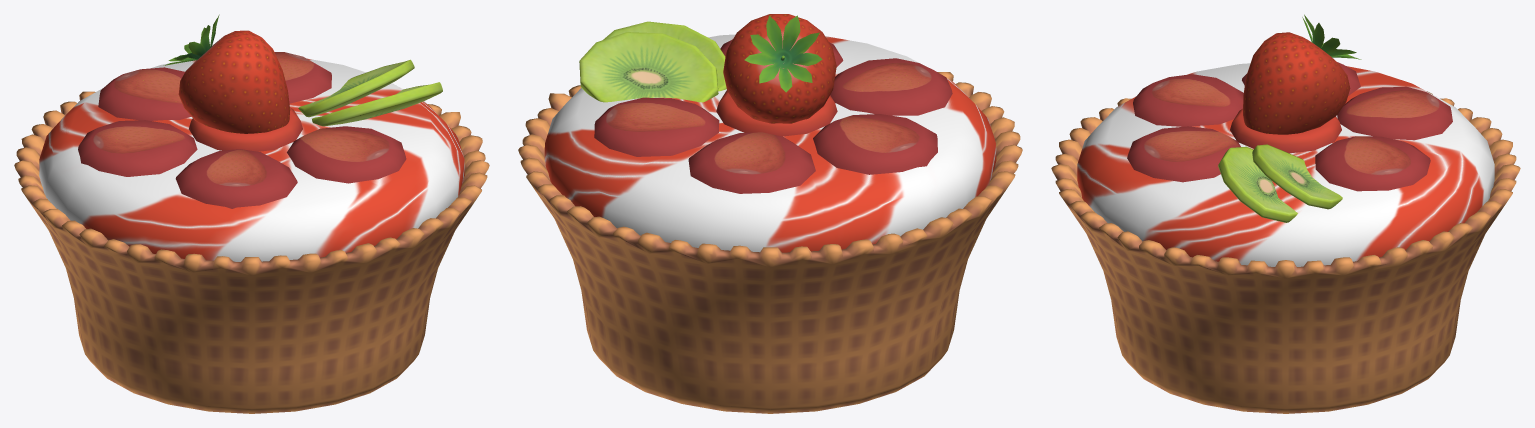
Rendered from dessert_jam_1.fbx.
3 views of the same model, side by side, from view 1: azimuth 30°, elevation 25°; view 2: azimuth 150°, elevation 25°; view 3: azimuth 270°, elevation 25° (orthographic). The views are drawn at different scales.
Visible parts, largest first — view 1: dessert_jam; view 2: dessert_jam; view 3: dessert_jam.
Boxes of the visible parts, box(x1,y1,x2,y2) form: dessert_jam: box(14, 14, 489, 413); dessert_jam: box(518, 14, 1022, 413); dessert_jam: box(1051, 14, 1520, 413).
Bounding box in the file's own units: 14.4 × 10.62 × 14.36.
